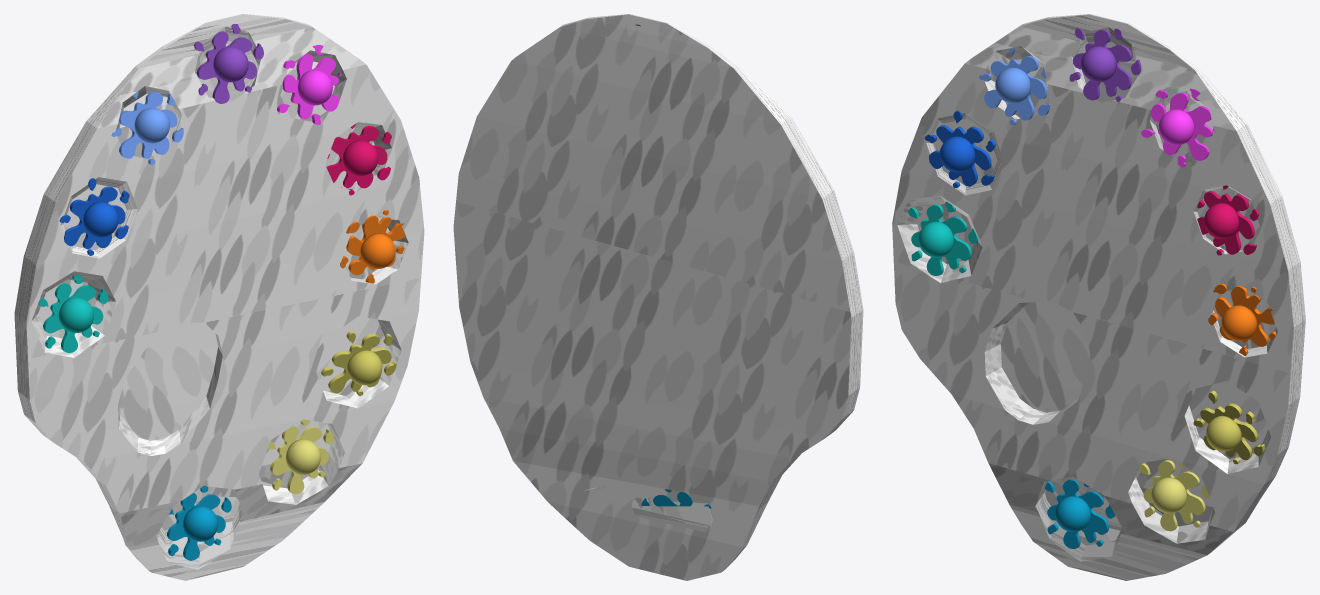
The model's file is godete.fbx.
3 renders of one model, left to right at view 1: azimuth 30°, elevation 25°; view 2: azimuth 150°, elevation 25°; view 3: azimuth 330°, elevation 25°, orthographic.
Parts seen in each view (by area): view 1: Cubo, Esfera, Esfera.005, Esfera.007, Esfera.006, Esfera.001, Esfera.008, Esfera.004, Esfera.002, Esfera.009, Esfera.003; view 2: Cubo; view 3: Cubo, Esfera, Esfera.001, Esfera.007, Esfera.005, Esfera.006, Esfera.008, Esfera.009, Esfera.002, Esfera.003, Esfera.004.
Boxes of the visible parts, x1,y1,x2,y2 form: Cubo: (14, 14, 424, 580); Esfera: (194, 24, 263, 103); Esfera.005: (111, 91, 183, 164); Esfera.007: (39, 275, 108, 353); Esfera.006: (59, 178, 129, 255); Esfera.001: (277, 45, 341, 124); Esfera.008: (268, 419, 333, 494); Esfera.004: (321, 330, 396, 396); Esfera.002: (326, 123, 391, 195); Esfera.009: (167, 486, 231, 560); Esfera.003: (340, 209, 404, 283); Cubo: (453, 14, 863, 580); Cubo: (892, 14, 1305, 580); Esfera: (1069, 28, 1141, 101); Esfera.001: (1141, 88, 1214, 167); Esfera.007: (908, 201, 978, 275); Esfera.005: (979, 48, 1050, 124); Esfera.006: (924, 110, 995, 187); Esfera.008: (1139, 460, 1209, 531); Esfera.009: (1044, 479, 1115, 548); Esfera.002: (1197, 185, 1259, 255); Esfera.003: (1208, 283, 1275, 355); Esfera.004: (1193, 390, 1265, 464).
Size of the model in its own units: 340 by 450 by 39.81.
